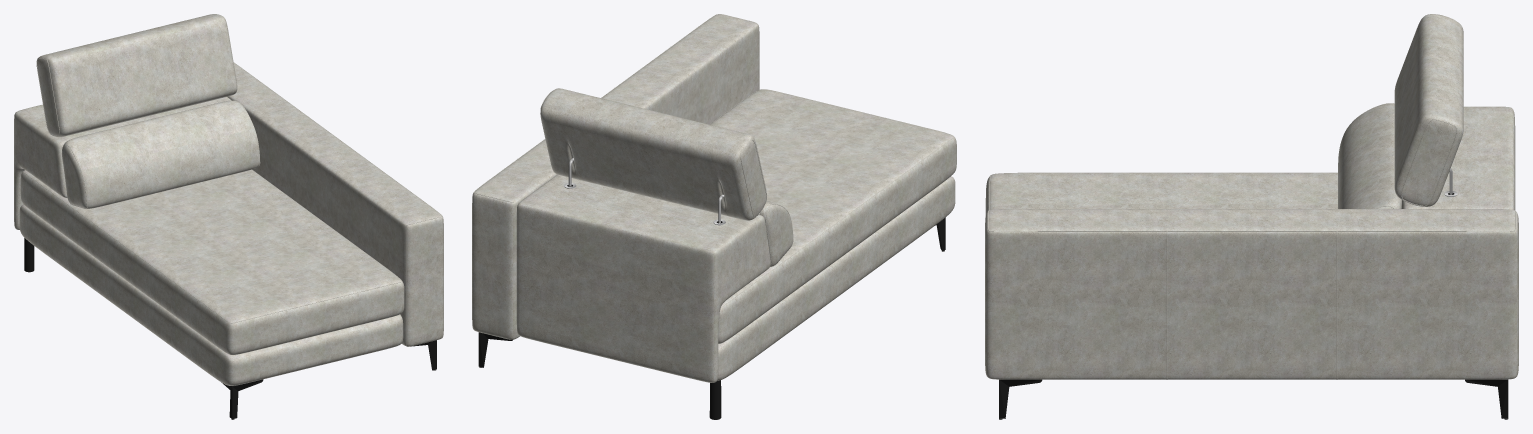
File: chaise.glb
3 views of the same model, side by side, from view 1: azimuth 30°, elevation 25°; view 2: azimuth 150°, elevation 25°; view 3: azimuth 270°, elevation 25° (orthographic). The views are drawn at different scales.
Visible parts, largest first — view 1: object 5, object 7, object 18, Bossa, object 9, Costa, D=~ 0,00 m, Pé jarama; view 2: Costa, object 5, object 7, object 18, object 9, Bossa, D=~ 0,00 m, Pé técnico; view 3: object 7, object 5, object 18, Costa, Bossa, Pé jarama (×2), D=~ 0,00 m.
Part boxes in pixels (left/top/right/bottom): object 5: left=20, top=169, right=404, bottom=354; object 7: left=227, top=63, right=443, bottom=346; object 18: left=37, top=14, right=237, bottom=136; Bossa: left=62, top=100, right=259, bottom=208; object 9: left=19, top=204, right=403, bottom=385; Costa: left=14, top=97, right=231, bottom=229; D=~ 0,00 m: left=23, top=170, right=402, bottom=323; Pé jarama: left=221, top=379, right=263, bottom=419; Costa: left=516, top=174, right=770, bottom=382; object 5: left=710, top=89, right=956, bottom=343; object 7: left=472, top=14, right=759, bottom=339; object 18: left=540, top=88, right=766, bottom=220; object 9: left=717, top=176, right=955, bottom=380; Bossa: left=759, top=201, right=793, bottom=266; D=~ 0,00 m: left=711, top=89, right=954, bottom=307; Pé técnico: left=709, top=380, right=721, bottom=419; object 7: left=985, top=209, right=1518, bottom=379; object 5: left=985, top=172, right=1337, bottom=215; object 18: left=1394, top=14, right=1463, bottom=206; Costa: left=1401, top=106, right=1515, bottom=209; Bossa: left=1338, top=103, right=1401, bottom=208; Pé jarama (×2): left=999, top=379, right=1508, bottom=419; D=~ 0,00 m: left=987, top=210, right=1516, bottom=231.
Size of the model in its own units: 0.9132 by 0.9365 by 1.6.
Materials: 5 (2 with a texture image).
